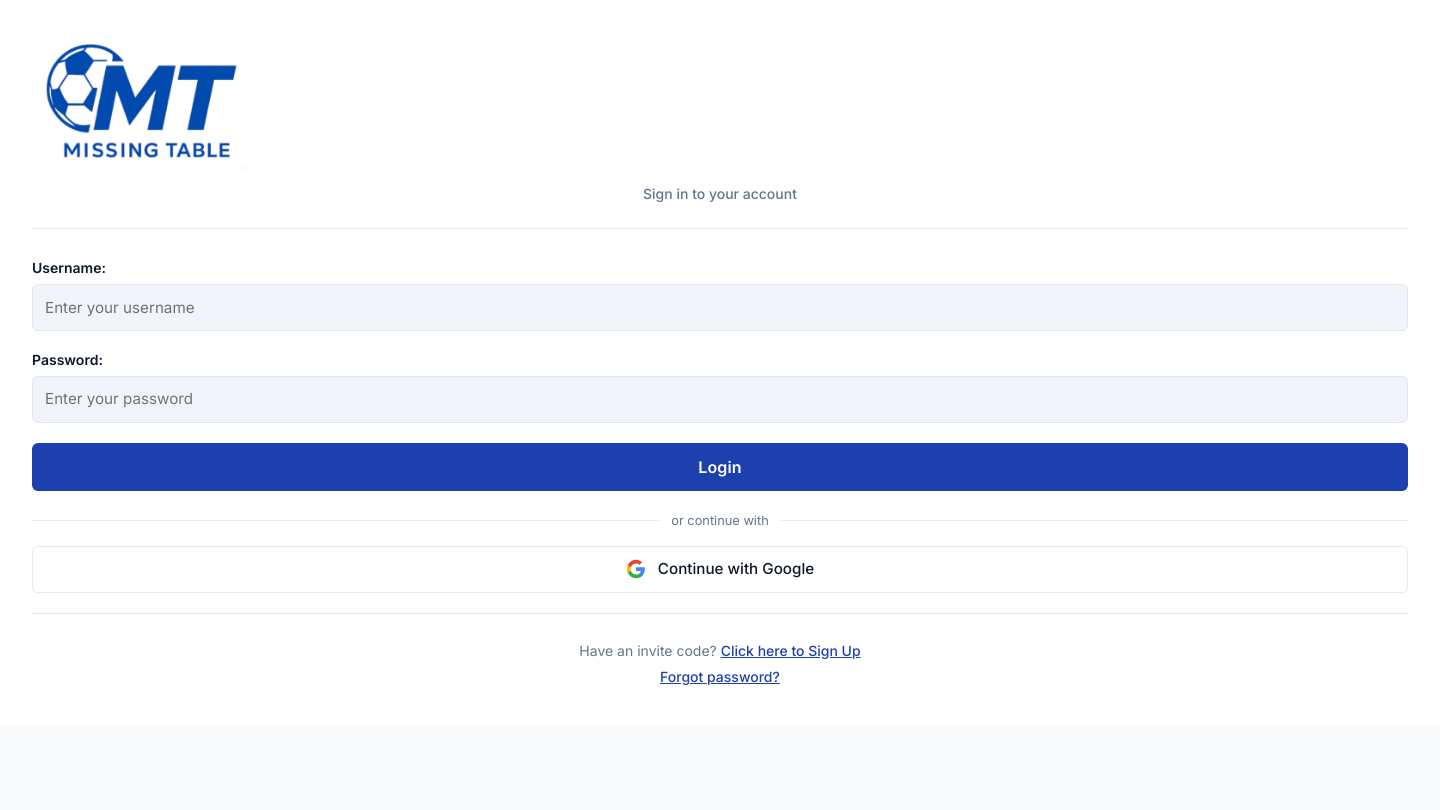
LoginForm › form switching › switches to signup form when clicking signup link
The image size is (1440, 810).
Expected: the button with test id "login-button" reads "Login", x1=32 y1=443 x2=1408 y2=491
Click the signup link
Click the button with test id "signup-link" at (791, 650), box x1=721 y1=640 x2=861 y2=661
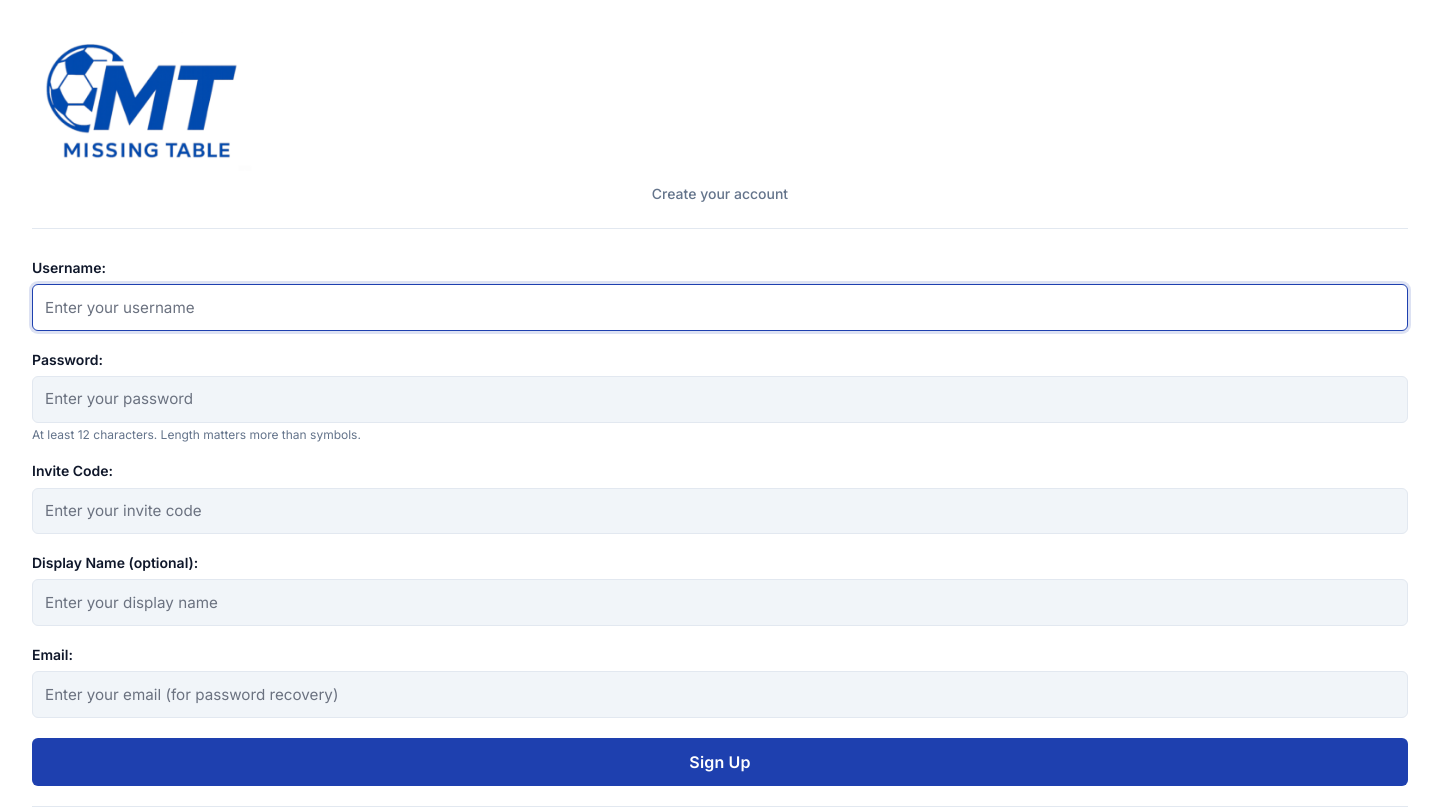
Now the button with test id "login-button" reads "Sign Up", box x1=32 y1=738 x2=1408 y2=786
Now the field with id "inviteCode" is shown, box x1=32 y1=488 x2=1408 y2=534
